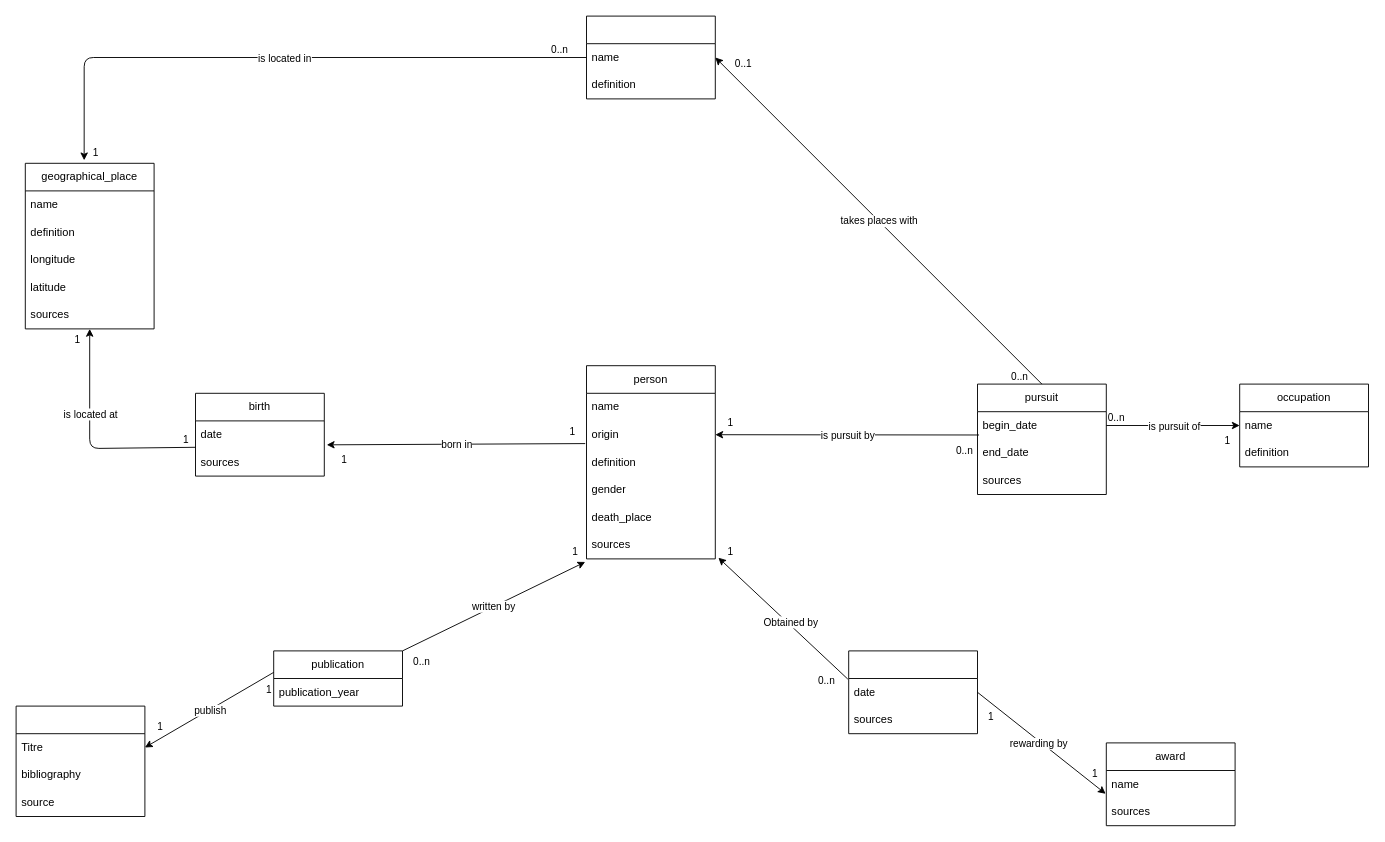
This 1385x842 diagram has some shape labels left out. The shapes that lost their labels are listed below. From the top down, each one's box as (x1, y1, x2, y2) in pixels, then its label:
(586, 15, 715, 99): organization
(848, 650, 978, 734): obtainment
(15, 705, 145, 816): document
